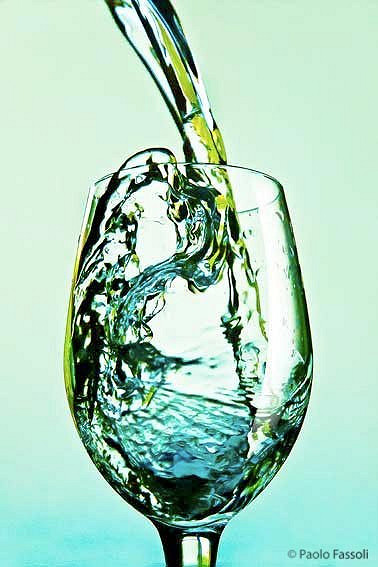glass of water: (75, 162, 307, 567)
